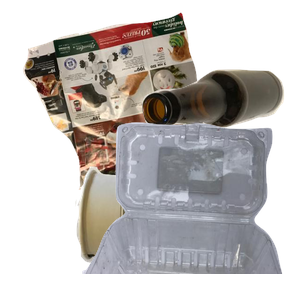glass: (140, 67, 300, 188)
paper: (20, 10, 231, 190)
plastic: (80, 120, 300, 300)
trash: (73, 164, 278, 300)
